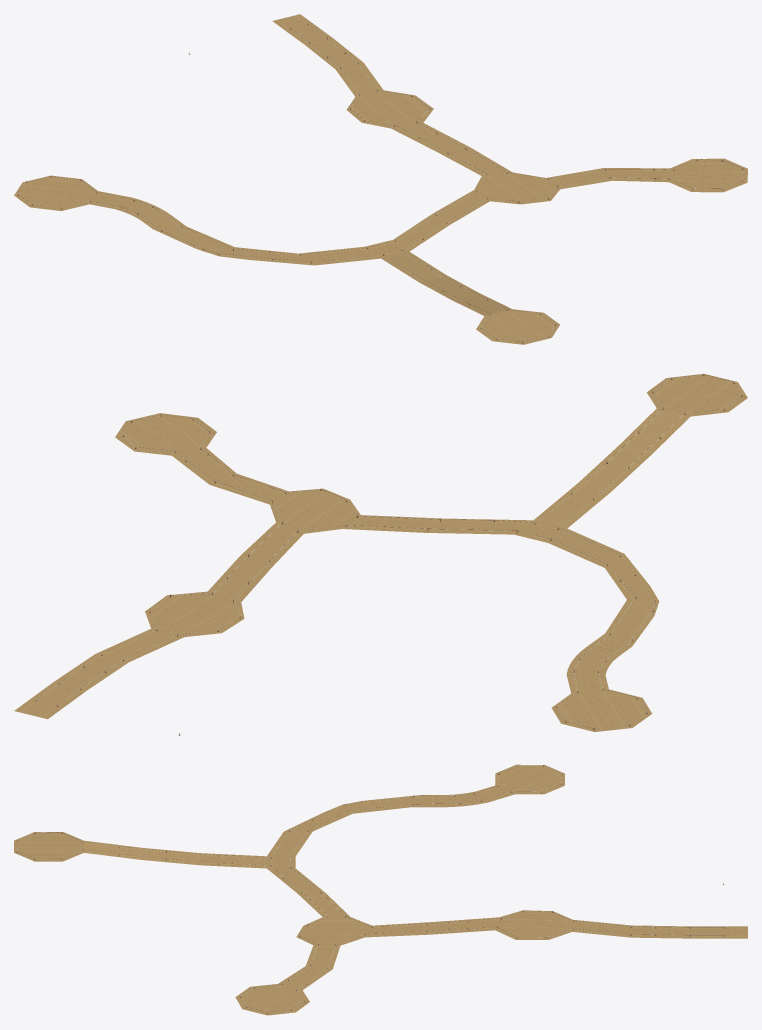
3 renders of one model, top to bottom at view 1: azimuth 30°, elevation 25°; view 2: azimuth 150°, elevation 25°; view 3: azimuth 270°, elevation 25°, orthographic. The views are drawn at different scales.
Visible parts, largest first — view 1: okasinosaku76; view 2: okasinosaku76; view 3: okasinosaku76.
Part boxes in pixels (bbox=[...]): okasinosaku76: bbox=[14, 14, 747, 344]; okasinosaku76: bbox=[14, 373, 747, 735]; okasinosaku76: bbox=[14, 764, 747, 1015].
Bounding box in the file's own units: 36030 × 1185 × 44572.
Materials: 1 (1 with a texture image).
